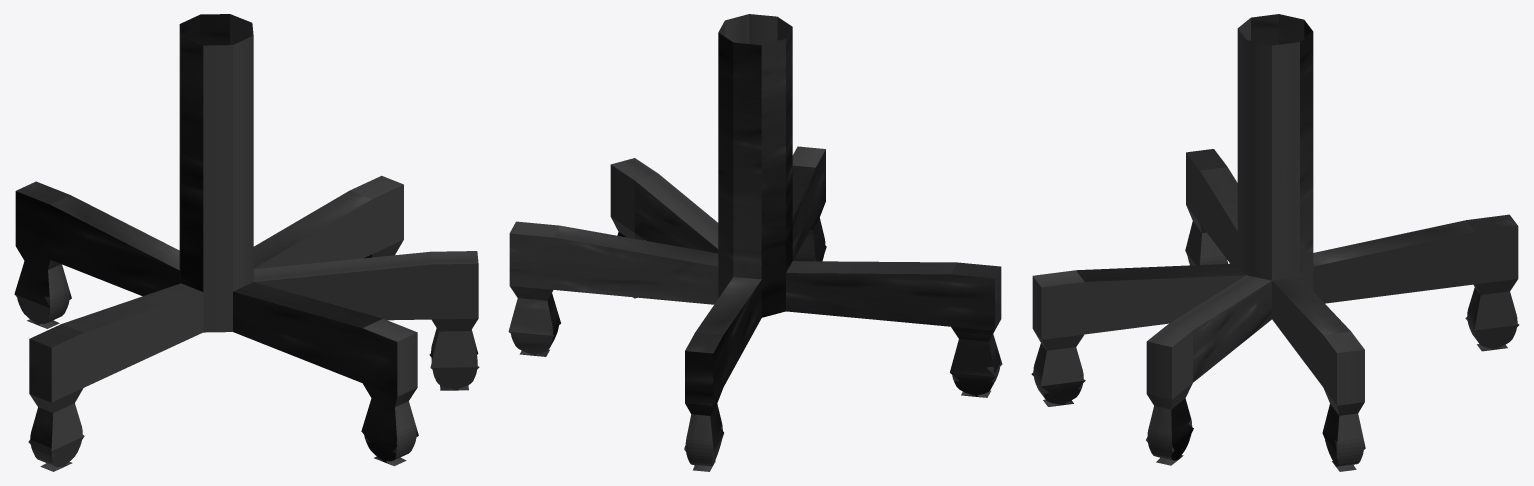
Rendered from Silla_inf.obj.
The picture shows the model from 3 angles, left to right: view 1: azimuth 30°, elevation 25°; view 2: azimuth 150°, elevation 25°; view 3: azimuth 270°, elevation 25°; orthographic projection. The views are drawn at different scales.
Visible parts, largest first — view 1: patas_silla_Cube.039; view 2: patas_silla_Cube.039; view 3: patas_silla_Cube.039.
Part boxes in pixels (x1,y1,x2,y2): patas_silla_Cube.039: [14, 14, 479, 471]; patas_silla_Cube.039: [508, 14, 1002, 471]; patas_silla_Cube.039: [1031, 14, 1519, 471].
Size of the model in its own units: 0.7142 by 0.5583 by 0.7175.
